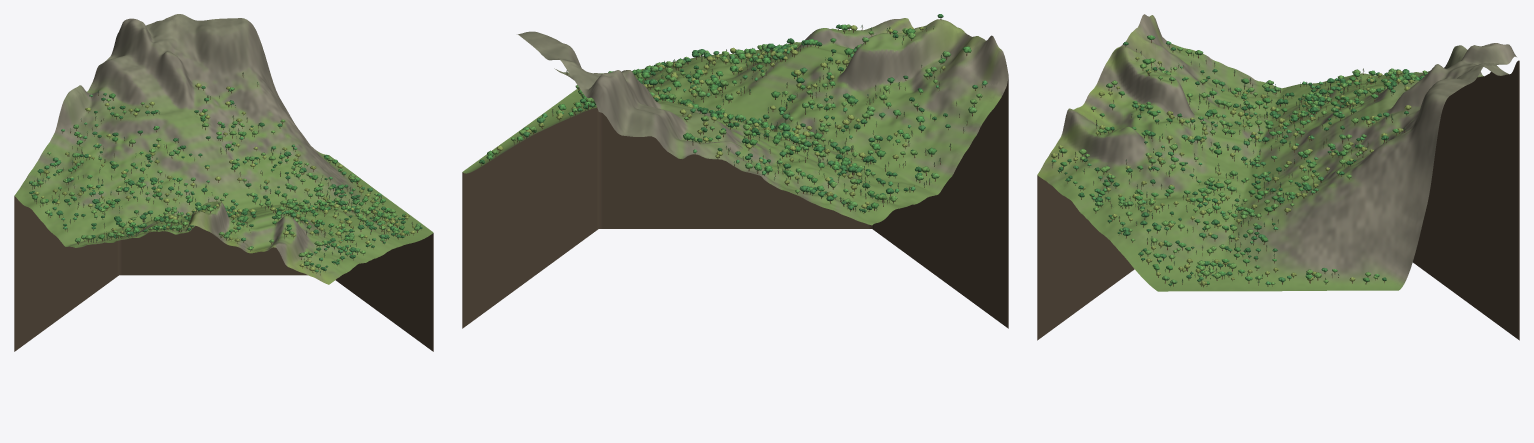
3 views of the same model, side by side, from view 1: azimuth 30°, elevation 25°; view 2: azimuth 150°, elevation 25°; view 3: azimuth 270°, elevation 25° (orthographic). The views are drawn at different scales.
Visible parts, largest first — view 1: terrain, hex_side_cut, broadleaf_canopy, trunks, conifer_canopy; view 2: hex_side_cut, terrain, broadleaf_canopy, trunks, conifer_canopy; view 3: terrain, hex_side_cut, broadleaf_canopy, trunks, conifer_canopy.
Boxes of the visible parts, x1,y1,x2,y2 form: terrain: [14, 14, 433, 284]; hex_side_cut: [14, 196, 433, 351]; broadleaf_canopy: [29, 83, 422, 272]; trunks: [30, 73, 421, 275]; conifer_canopy: [34, 72, 412, 272]; hex_side_cut: [462, 77, 1008, 328]; terrain: [462, 18, 1008, 225]; broadleaf_canopy: [479, 14, 987, 212]; trunks: [481, 18, 985, 213]; conifer_canopy: [514, 25, 982, 209]; terrain: [1037, 14, 1516, 291]; hex_side_cut: [1037, 60, 1519, 340]; broadleaf_canopy: [1051, 35, 1427, 285]; trunks: [1052, 40, 1411, 287]; conifer_canopy: [1052, 44, 1406, 282].
Bounding box in the file's own units: 4330 × 3439 × 5000.
6 materials, 1 textured.
